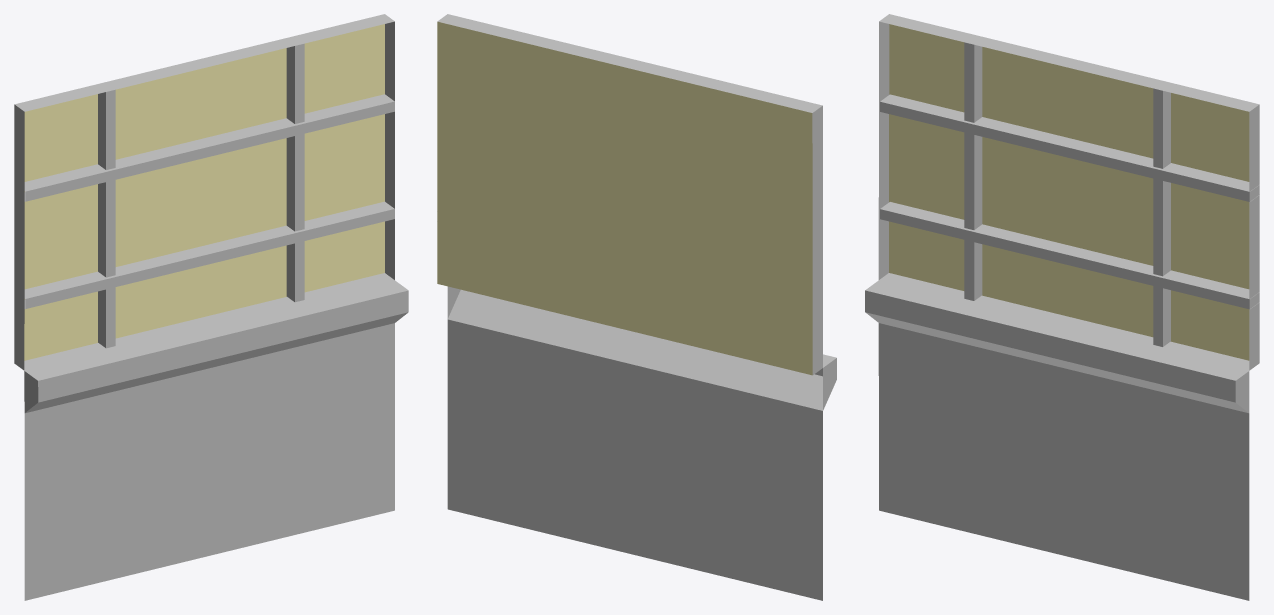
The model's file is Wall_WindowPanel.FBX.
3 renders of one model, left to right at view 1: azimuth 30°, elevation 25°; view 2: azimuth 150°, elevation 25°; view 3: azimuth 330°, elevation 25°, orthographic.
Parts seen in each view (by area): view 1: Window_Panel; view 2: Window_Panel; view 3: Window_Panel.
Boxes of the visible parts, x1=… form: Window_Panel: x1=14, y1=14, x2=408, y2=600; Window_Panel: x1=437, y1=14, x2=836, y2=600; Window_Panel: x1=865, y1=14, x2=1259, y2=600.
Bounding box in the file's own units: 2.09 × 2.63 × 0.2336.
